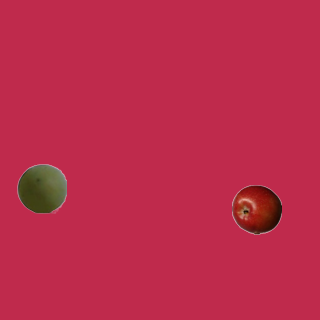Apple Braeburn: (231, 184, 281, 234)
Grape White 4: (16, 163, 66, 213)
